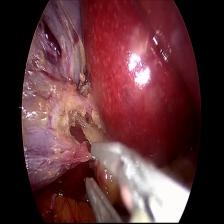Clipper: (82, 139, 183, 224)
